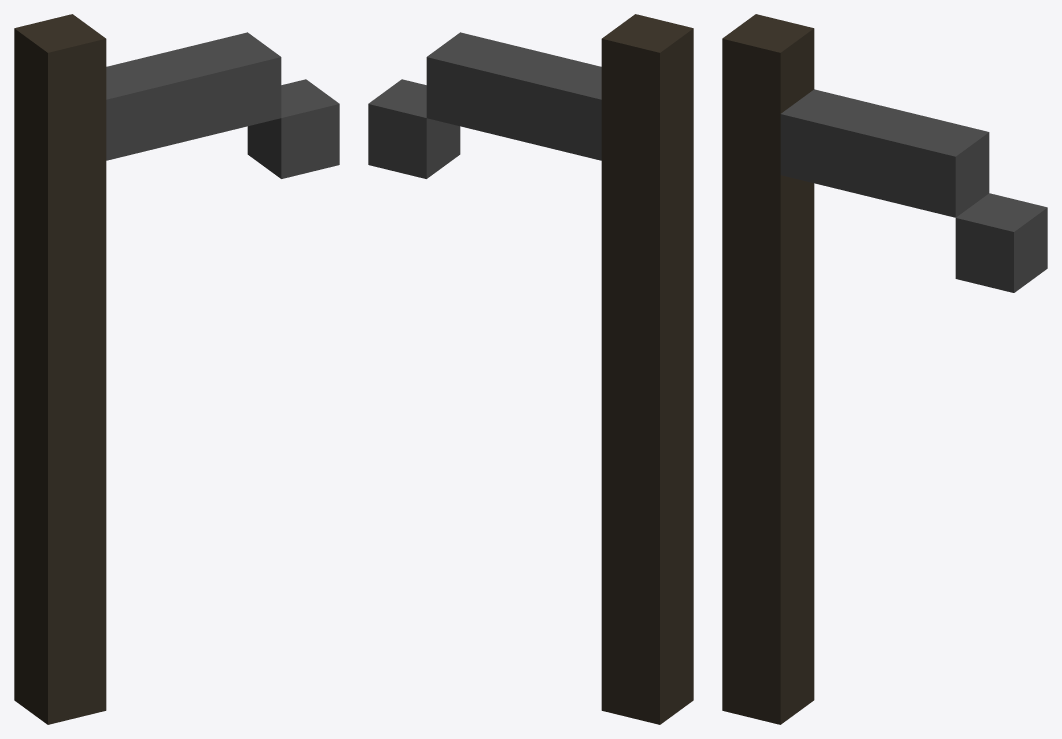
Rendered from farm-15-hoe.obj.
3 views of the same model, side by side, from view 1: azimuth 30°, elevation 25°; view 2: azimuth 150°, elevation 25°; view 3: azimuth 330°, elevation 25° (orthographic).
Parts seen in each view (by area): view 1: hoe; view 2: hoe; view 3: hoe.
Part boxes in pixels (x1,y1,x2,y2): hoe: (14, 14, 339, 724); hoe: (368, 14, 693, 724); hoe: (722, 14, 1047, 724).
Bounding box in the file's own units: 0.5 × 1.1 × 0.1.
1 material, 1 textured.
